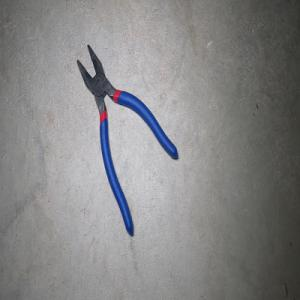Pliers: (76, 44, 178, 236)
